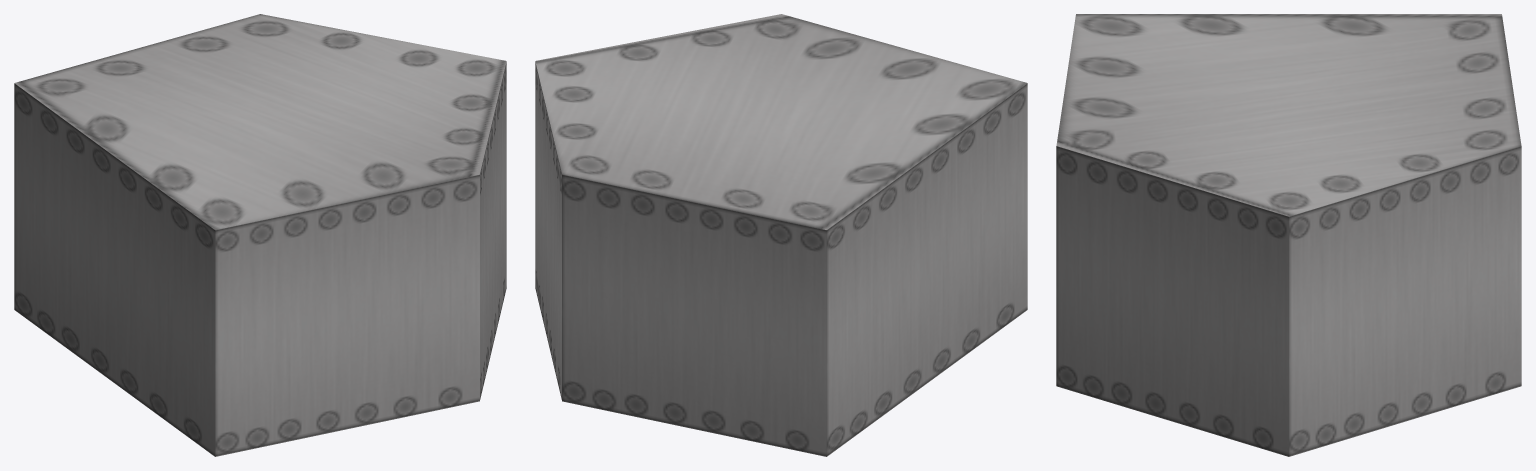
File: aluPenta.obj
The picture shows the model from 3 angles, left to right: view 1: azimuth 30°, elevation 25°; view 2: azimuth 150°, elevation 25°; view 3: azimuth 270°, elevation 25°; orthographic projection. The views are drawn at different scales.
Visible parts, largest first — view 1: aluPenta; view 2: aluPenta; view 3: aluPenta.
Part boxes in pixels (x1,y1,x2,y2): aluPenta: (14,14,506,456); aluPenta: (535,14,1027,456); aluPenta: (1056,14,1521,456).
Bounding box in the file's own units: 1.81 × 1 × 1.75.
Materials: 1 (1 with a texture image).
